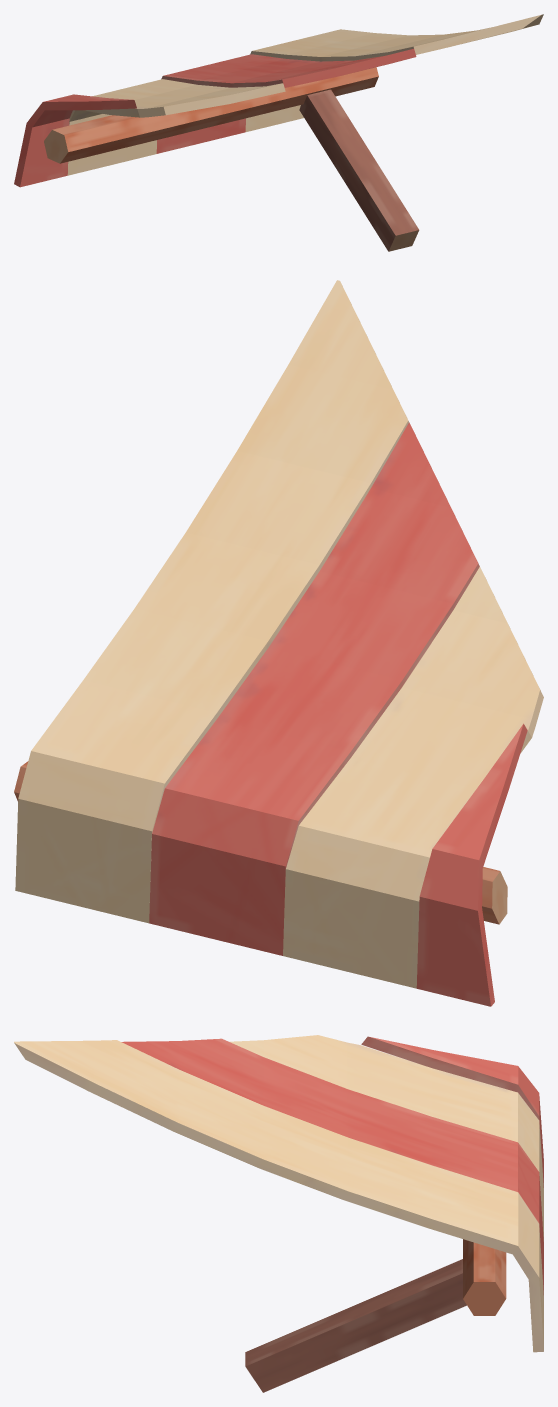
Rendered from awning_s03.fbx.
3 views of the same model, one above another, from view 1: azimuth 30°, elevation 25°; view 2: azimuth 150°, elevation 25°; view 3: azimuth 270°, elevation 25° (orthographic). The views are drawn at different scales.
Parts seen in each view (by area): view 1: awning_s03; view 2: awning_s03; view 3: awning_s03.
Part boxes in pixels (x1,y1,x2,y2): awning_s03: (14,14,543,251); awning_s03: (14,280,543,1006); awning_s03: (14,1035,543,1392).
Size of the model in its own units: 3.08 by 2.64 by 3.44.
